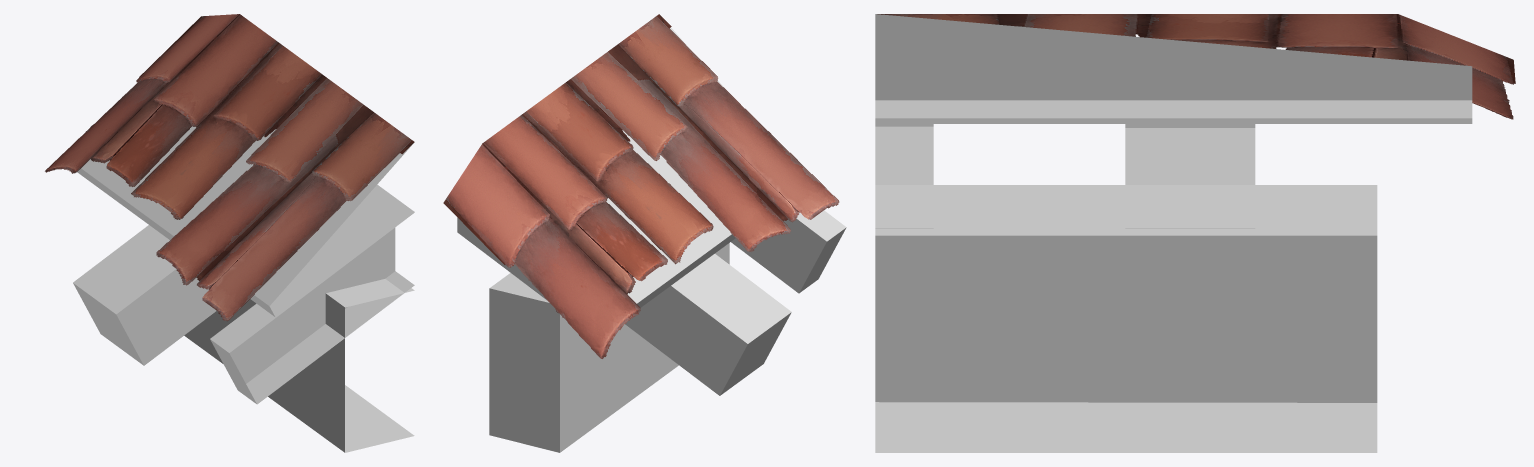
File: WallKit_Verge_End_Right_LOD1.fbx
The picture shows the model from 3 angles, left to right: view 1: azimuth 30°, elevation 25°; view 2: azimuth 150°, elevation 25°; view 3: azimuth 270°, elevation 25°; orthographic projection. The views are drawn at different scales.
Visible parts, largest first — view 1: WallKit_Verge_End_Right_LOD1; view 2: WallKit_Verge_End_Right_LOD1; view 3: WallKit_Verge_End_Right_LOD1.
Part boxes in pixels (box(x1,y1,x2,y2)): WallKit_Verge_End_Right_LOD1: box(45, 14, 414, 452); WallKit_Verge_End_Right_LOD1: box(443, 14, 846, 452); WallKit_Verge_End_Right_LOD1: box(875, 14, 1515, 452).
Size of the model in its own units: 63.83 by 83.55 by 111.
